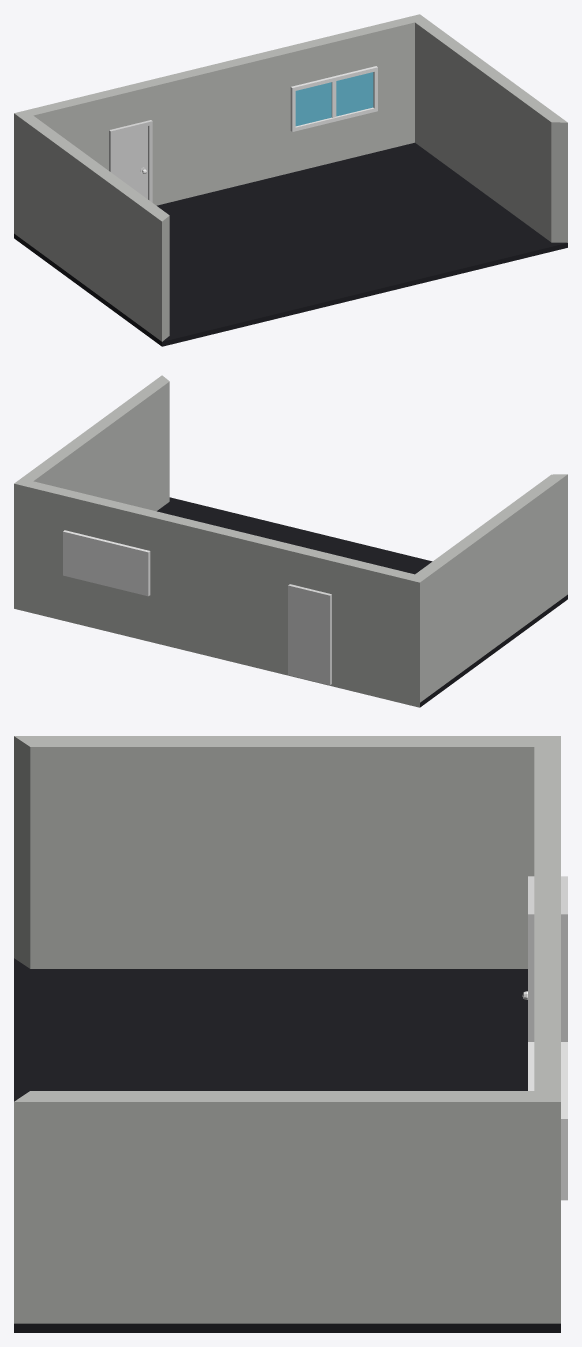
File: empty_room_scaled.glb
3 renders of one model, top to bottom at view 1: azimuth 30°, elevation 25°; view 2: azimuth 150°, elevation 25°; view 3: azimuth 270°, elevation 25°, orthographic. The views are drawn at different scales.
Parts seen in each view (by area): view 1: Object_5, Object_3, Object_6, Object_2, Object_7, Object_4; view 2: Object_5, Object_3, Object_7, Object_4; view 3: Object_5, Object_3, Object_4, Object_7.
Part boxes in pixels (box(x1,y1,x2,y2)): Object_5: box(14, 14, 567, 341); Object_3: box(14, 142, 567, 346); Object_6: box(295, 72, 373, 126); Object_2: box(114, 126, 147, 198); Object_7: box(140, 66, 377, 173); Object_4: box(109, 120, 152, 202); Object_5: box(14, 375, 567, 707); Object_3: box(157, 497, 567, 707); Object_7: box(63, 530, 150, 596); Object_4: box(288, 584, 331, 684); Object_5: box(14, 736, 560, 1323); Object_3: box(14, 958, 560, 1332); Object_4: box(528, 876, 567, 1041); Object_7: box(522, 991, 567, 1200).
Size of the model in its own units: 2120 by 625 by 1357.
